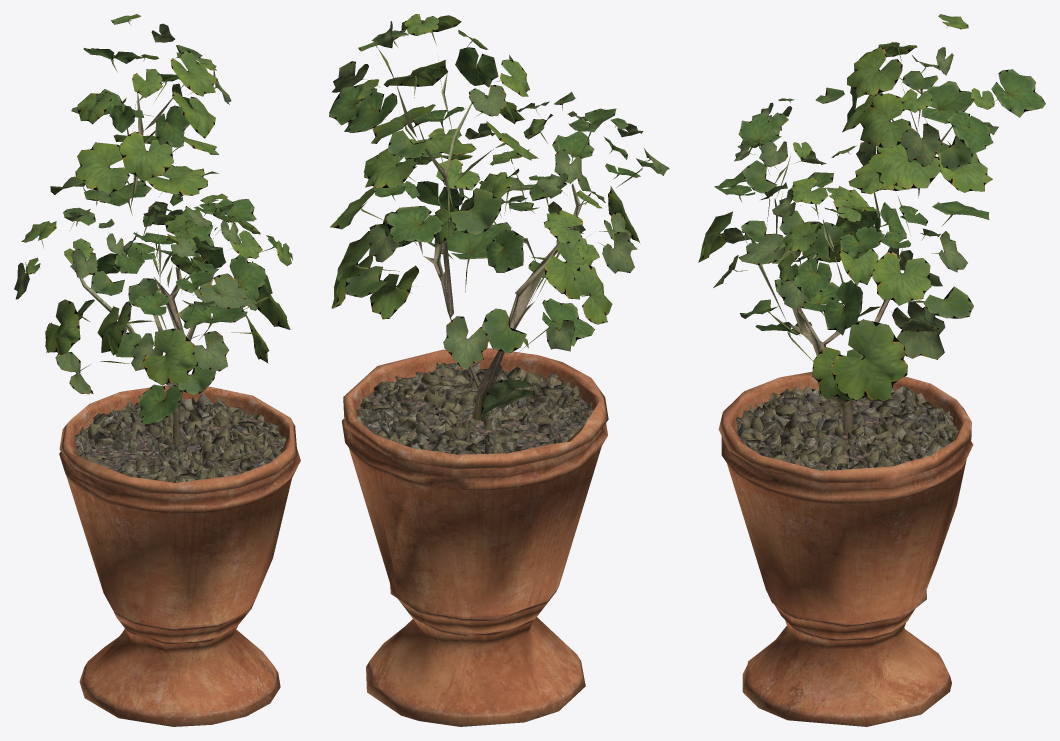
Rendered from plante-verte.glb.
The picture shows the model from 3 angles, left to right: view 1: azimuth 30°, elevation 25°; view 2: azimuth 150°, elevation 25°; view 3: azimuth 270°, elevation 25°; orthographic projection. The views are drawn at different scales.
Visible parts, largest first — view 1: potted_plant_01_stem, potted_plant_01_leaves; view 2: potted_plant_01_stem, potted_plant_01_leaves; view 3: potted_plant_01_stem, potted_plant_01_leaves.
Part boxes in pixels (x1,y1,x2,y2): potted_plant_01_stem: (59,92,300,726); potted_plant_01_leaves: (14,14,292,424); potted_plant_01_stem: (342,72,608,726); potted_plant_01_leaves: (329,14,669,414); potted_plant_01_stem: (718,89,973,726); potted_plant_01_leaves: (698,14,1045,401).
Bounding box in the file's own units: 0.5866 × 1.33 × 0.6336.
2 materials, 2 textured.
